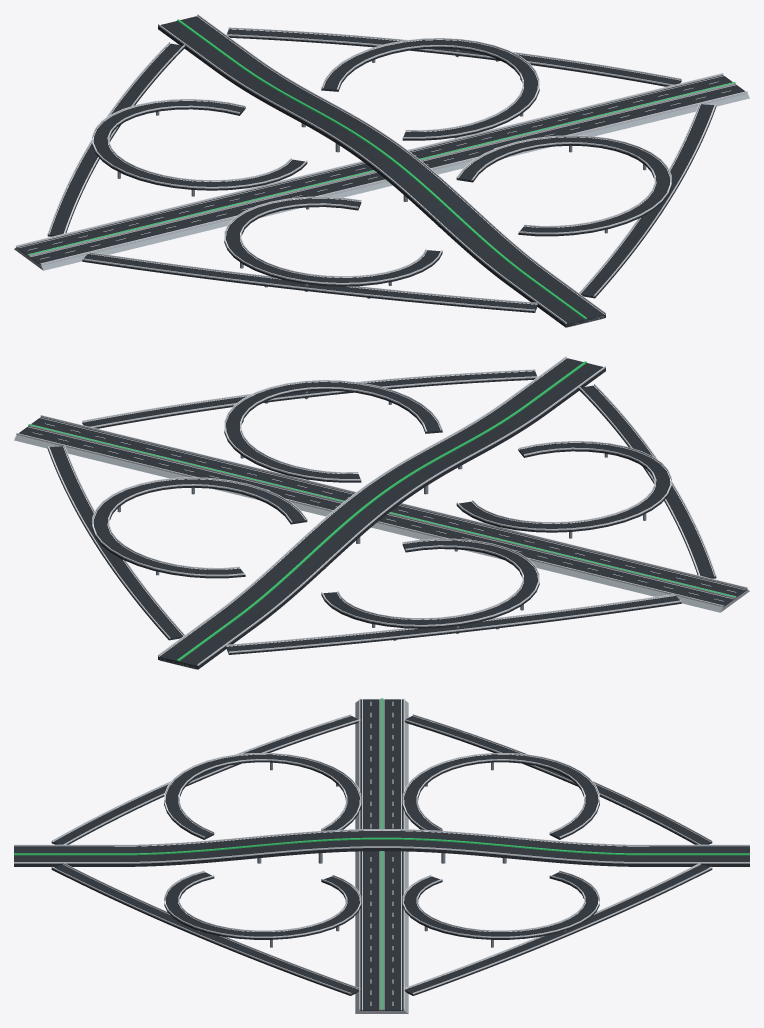
The model's file is interchange-hub.glb.
3 renders of one model, top to bottom at view 1: azimuth 30°, elevation 25°; view 2: azimuth 150°, elevation 25°; view 3: azimuth 270°, elevation 25°, orthographic. The views are drawn at different scales.
Parts seen in each view (by area): view 1: CrossOverpass, MainlineAsphalt, LoopRamp_0, LoopRamp_3, LoopRamp_1, DirRamp_2, LoopRamp_2, MainlineEmbank, DirRamp_3, DirRamp_0, DirRamp_1, MainX_MedianCurb (+20 smaller); view 2: CrossOverpass, MainlineAsphalt, LoopRamp_3, LoopRamp_0, LoopRamp_2, DirRamp_1, LoopRamp_1, MainlineEmbank, DirRamp_0, DirRamp_3, DirRamp_2, MainX_MedianCurb (+20 smaller); view 3: CrossOverpass, MainlineAsphalt, LoopRamp_1, LoopRamp_2, LoopRamp_0, LoopRamp_3, DirRamp_0, DirRamp_3, MainlineEmbank, DirRamp_1, DirRamp_2, CrossMedian (+20 smaller).
Boxes of the visible parts, <box> form: CrossOverpass: <box>158,16,605,327</box>; MainlineAsphalt: <box>16,75,745,265</box>; LoopRamp_0: <box>321,39,539,140</box>; LoopRamp_3: <box>456,137,671,236</box>; LoopRamp_1: <box>92,100,307,190</box>; DirRamp_2: <box>82,254,537,312</box>; LoopRamp_2: <box>224,198,442,286</box>; MainlineEmbank: <box>14,77,749,270</box>; DirRamp_3: <box>580,104,716,298</box>; DirRamp_0: <box>227,29,681,86</box>; DirRamp_1: <box>47,43,185,236</box>; MainX_MedianCurb: <box>28,82,735,256</box>; CrossOverpass: <box>158,358,605,669</box>; MainlineAsphalt: <box>18,417,747,607</box>; LoopRamp_3: <box>224,381,442,482</box>; LoopRamp_0: <box>92,479,307,578</box>; LoopRamp_2: <box>456,442,671,532</box>; DirRamp_1: <box>226,596,681,654</box>; LoopRamp_1: <box>321,540,539,628</box>; MainlineEmbank: <box>14,419,749,612</box>; DirRamp_0: <box>47,446,183,640</box>; DirRamp_3: <box>82,371,536,428</box>; DirRamp_2: <box>578,385,716,578</box>; MainX_MedianCurb: <box>28,424,735,598</box>; CrossOverpass: <box>14,830,749,866</box>; MainlineAsphalt: <box>360,699,403,1010</box>; LoopRamp_1: <box>402,754,599,839</box>; LoopRamp_2: <box>164,754,361,839</box>; LoopRamp_0: <box>402,872,599,939</box>; LoopRamp_3: <box>164,872,361,939</box>; DirRamp_0: <box>404,864,712,995</box>; DirRamp_3: <box>51,864,359,995</box>; MainlineEmbank: <box>355,700,408,1013</box>; DirRamp_1: <box>404,716,712,844</box>; DirRamp_2: <box>51,716,359,844</box>; CrossMedian: <box>14,837,749,855</box>.
Size of the model in its own units: 420 by 13.05 by 420.
